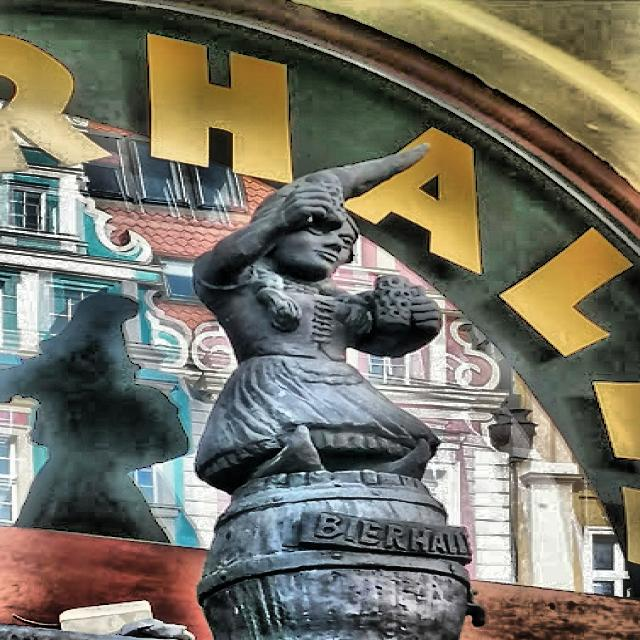Bawarka: (196, 145, 484, 640)
